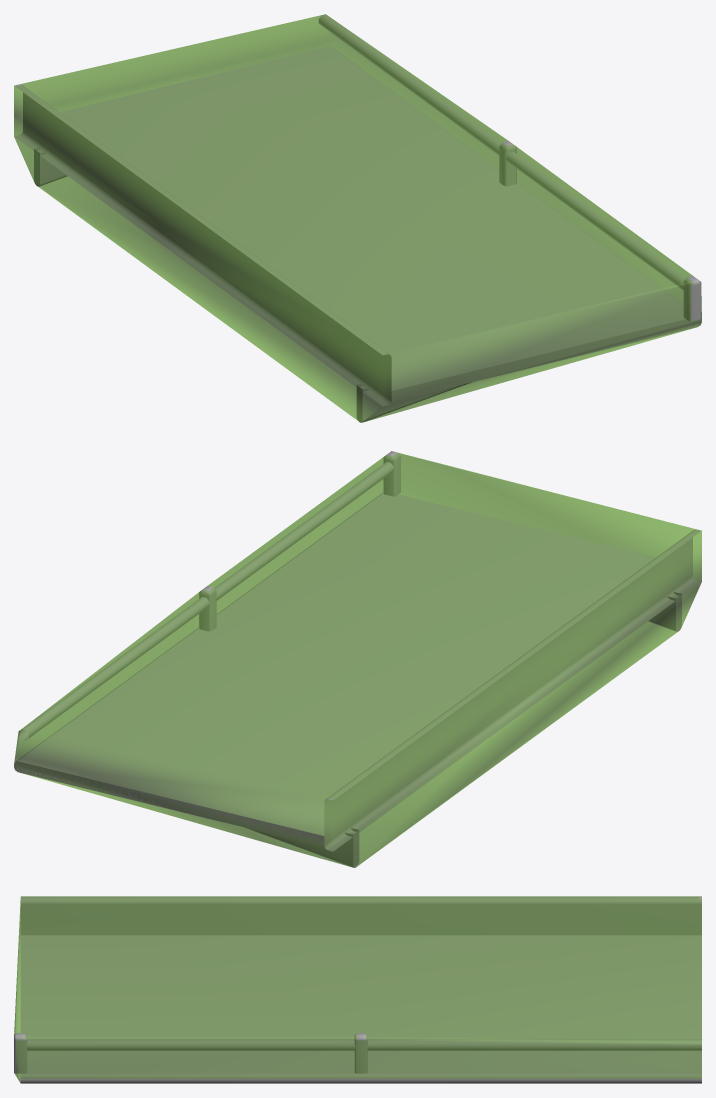
Rendered from M_md_MetalShelve_1m_01.fbx.
The picture shows the model from 3 angles, top to bottom: view 1: azimuth 30°, elevation 25°; view 2: azimuth 150°, elevation 25°; view 3: azimuth 270°, elevation 25°; orthographic projection. The views are drawn at different scales.
Parts seen in each view (by area): view 1: M_md_MetalShelve_1m_01_col_01, M_md_MetalShelve_1m_01_LOD0; view 2: M_md_MetalShelve_1m_01_col_01, M_md_MetalShelve_1m_01_LOD0; view 3: M_md_MetalShelve_1m_01_LOD0, M_md_MetalShelve_1m_01_col_01.
Part boxes in pixels (left/top/right/bottom): M_md_MetalShelve_1m_01_col_01: left=14, top=14, right=701, bottom=422; M_md_MetalShelve_1m_01_LOD0: left=14, top=14, right=701, bottom=422; M_md_MetalShelve_1m_01_col_01: left=14, top=452, right=701, bottom=867; M_md_MetalShelve_1m_01_LOD0: left=14, top=451, right=701, bottom=867; M_md_MetalShelve_1m_01_LOD0: left=14, top=896, right=701, bottom=1083; M_md_MetalShelve_1m_01_col_01: left=14, top=896, right=701, bottom=1082.
Size of what is drawn, in the model's own units: 50 by 12.73 by 101.
